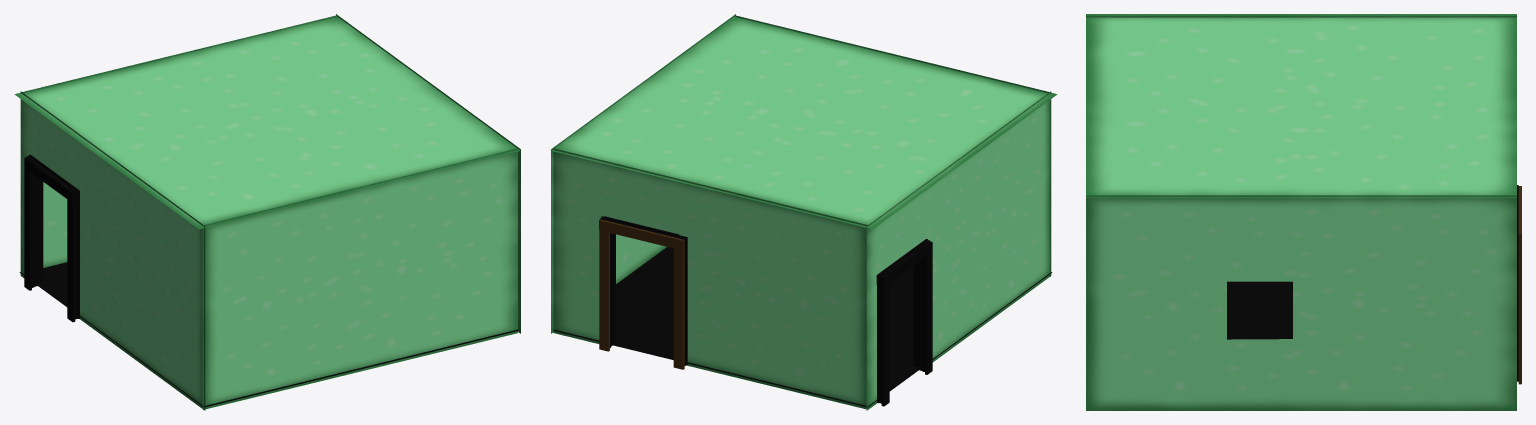
File: paredes.obj
The picture shows the model from 3 angles, left to right: view 1: azimuth 30°, elevation 25°; view 2: azimuth 150°, elevation 25°; view 3: azimuth 270°, elevation 25°; orthographic projection. The views are drawn at different scales.
Parts seen in each view (by area): view 1: cuarto:cuarto:cuarto:polySurface7756polySurface7767; view 2: cuarto:cuarto:cuarto:polySurface7756polySurface7767; view 3: cuarto:cuarto:cuarto:polySurface7756polySurface7767.
Boxes of the visible parts, <box> form: cuarto:cuarto:cuarto:polySurface7756polySurface7767: <box>14,14,521,410</box>; cuarto:cuarto:cuarto:polySurface7756polySurface7767: <box>550,14,1057,410</box>; cuarto:cuarto:cuarto:polySurface7756polySurface7767: <box>1086,14,1521,410</box>.
Size of the model in its own units: 9.82 by 5.13 by 9.23.
